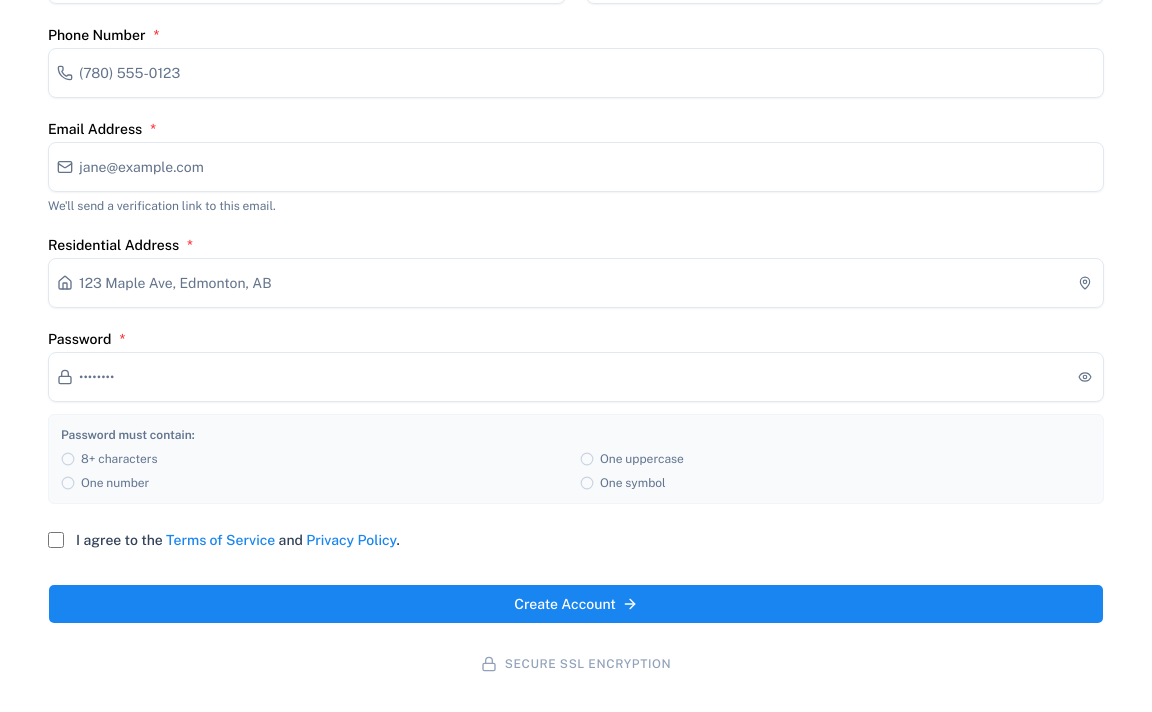
Test: RegisterForm › shows validation errors on empty submit
(page scrolled)
Step 1. Click the button "Create Account" → (576, 604), box x1=48 y1=584 x2=1104 y2=624
(page scrolled)
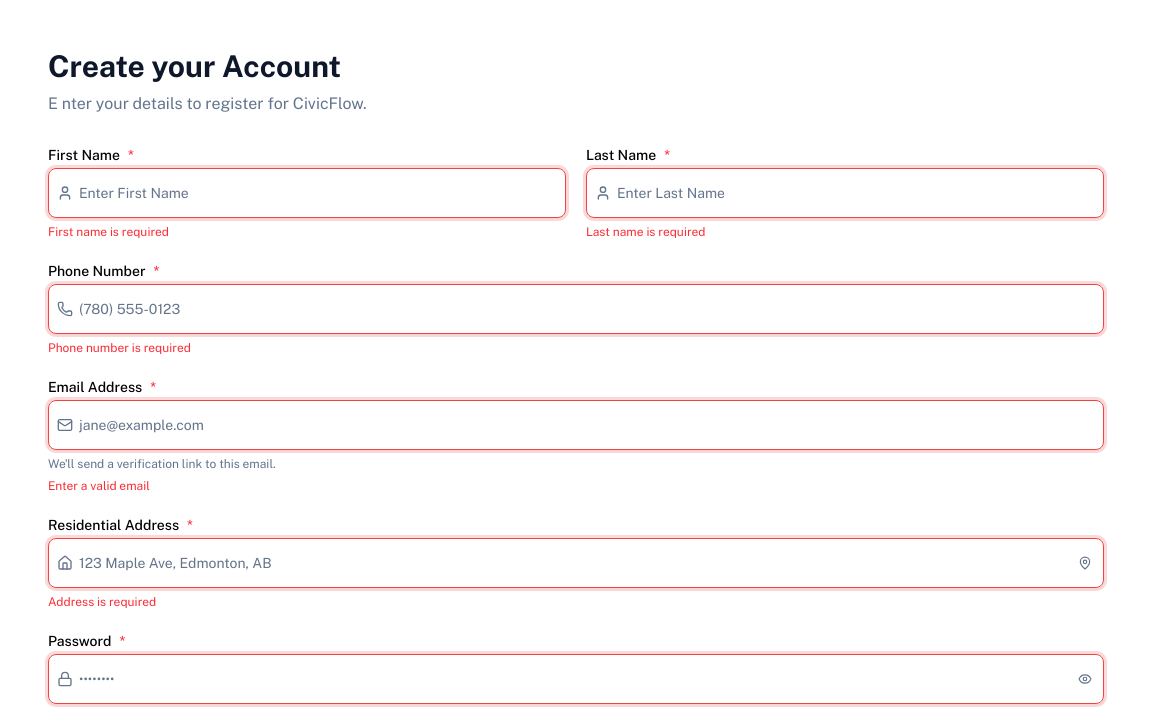
expect the text "First name is required" is shown: met, box x1=48 y1=225 x2=169 y2=239
